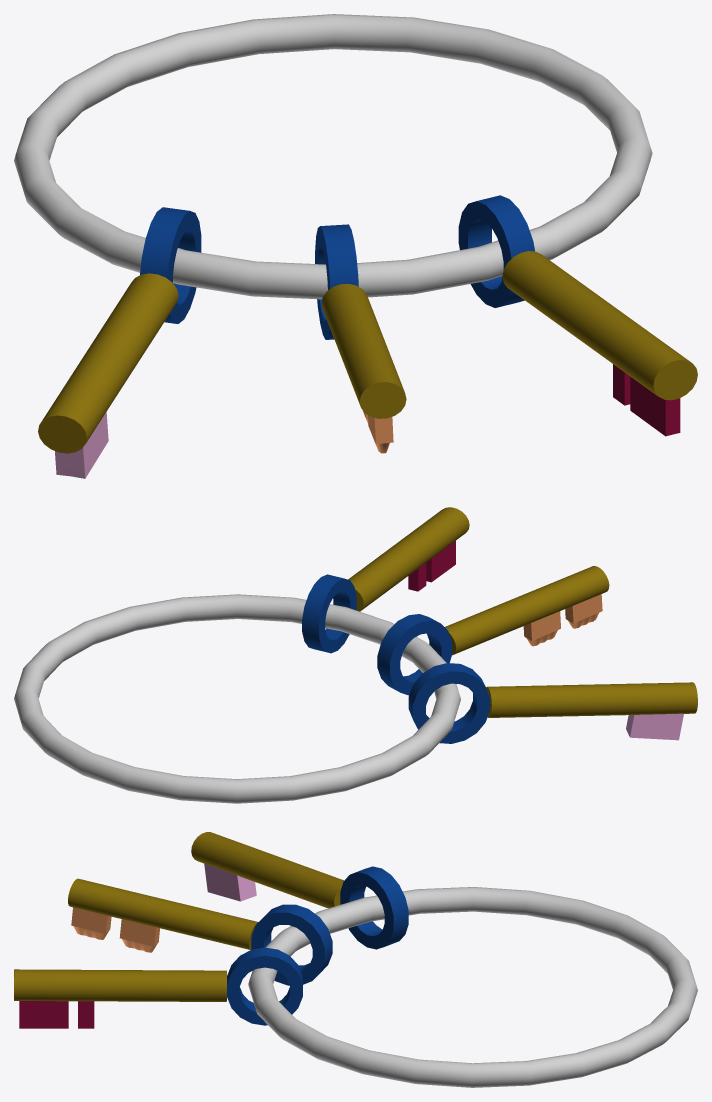
File: keys.obj
The picture shows the model from 3 angles, top to bottom: view 1: azimuth 30°, elevation 25°; view 2: azimuth 150°, elevation 25°; view 3: azimuth 270°, elevation 25°; orthographic projection. The views are drawn at different scales.
Visible parts, largest first — view 1: Ring, KeyMain, KeyMain3, KeyMain2, KeyTop2, KeyTop, KeyTop3, Tooth1, Box001; view 2: Ring, KeyMain3, KeyMain2, KeyMain, KeyTop, KeyTop3, KeyTop2, Tooth1, Box001, Tooth003; view 3: Ring, KeyMain, KeyMain2, KeyMain3, KeyTop, KeyTop2, KeyTop3, Tooth1, Box001, Tooth003, Tooth2.
Part boxes in pixels (x1,y1,x2,y2): Ring: (14,14,652,299); KeyMain: (502,251,697,400); KeyMain3: (38,273,178,453); KeyMain2: (321,283,406,418); KeyTop2: (458,195,534,307); KeyTop: (140,207,201,323); KeyTop3: (315,224,358,339); Tooth1: (368,376,680,453); Box001: (55,412,108,478); Ring: (14,594,460,803); KeyMain3: (486,682,697,717); KeyMain2: (445,566,609,655); KeyMain: (333,507,469,611); KeyTop: (408,663,490,743); KeyTop3: (377,614,452,695); KeyTop2: (302,574,356,653); Tooth1: (426,541,602,628); Box001: (626,713,683,740); Tooth003: (523,611,560,646); Ring: (248,887,697,1087); KeyMain: (14,969,226,1001); KeyMain2: (68,878,258,949); KeyMain3: (191,832,344,908); KeyTop: (340,866,408,949); KeyTop2: (227,947,302,1025); KeyTop3: (251,904,332,985); Tooth1: (19,907,111,1028); Box001: (204,863,256,901); Tooth003: (119,919,159,952); Tooth2: (78,1001,94,1028).
Bounding box in the file's own units: 64.83 × 11.25 × 72.42.
